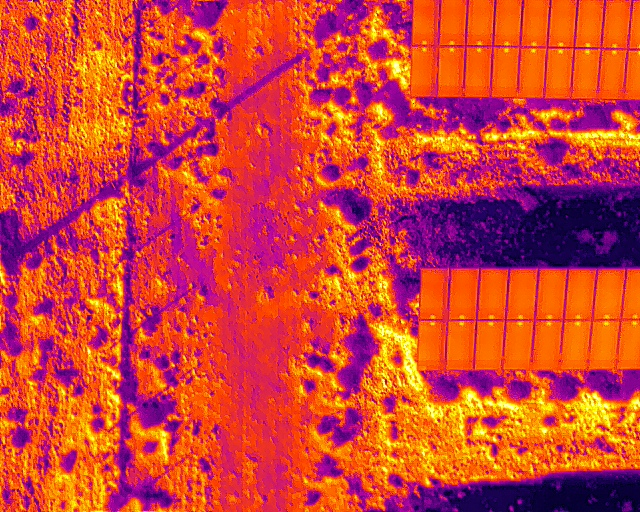photovoltaic_panels: (416, 266, 638, 370), (410, 0, 639, 98)
